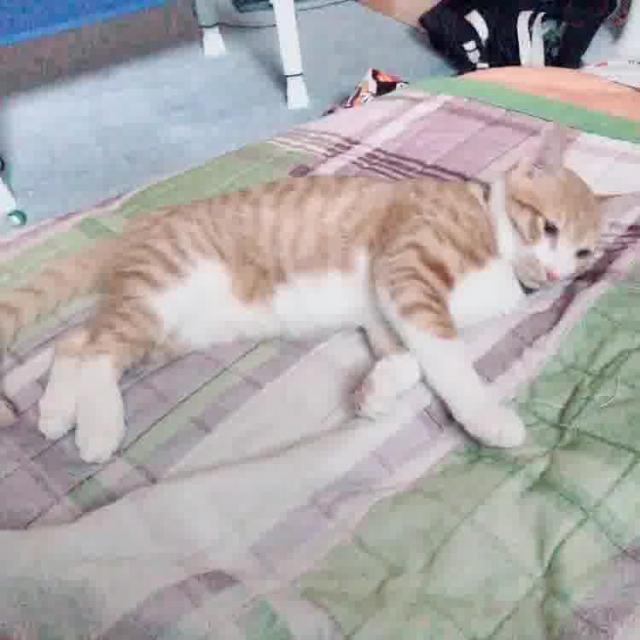cat: (1, 115, 637, 470)
